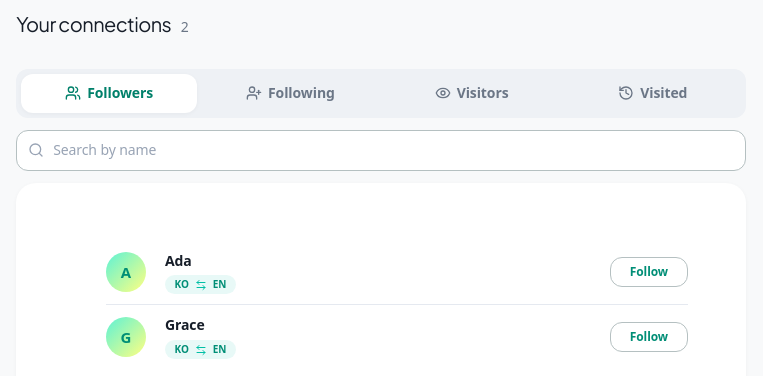
search › counts what the list actually shows while a search is active
The width and height of the screenshot is (763, 376).
Expected: the text with test id "list-count" reads "2", [181,17,189,36]
Type "gra" into the search field with test id "list-search" at (381, 150), box [16,130,746,171]
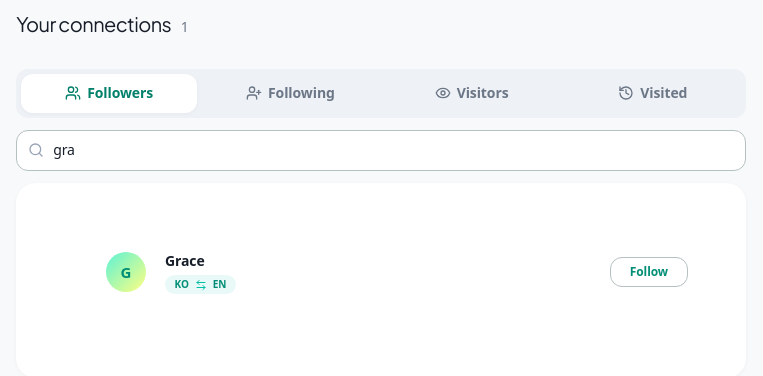
Expected: the text with test id "list-count" reads "1", [181,17,189,36]
